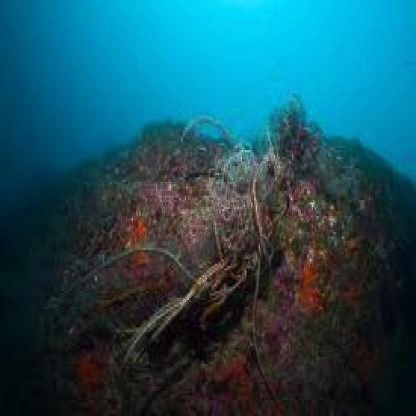net: (92, 113, 294, 379)
